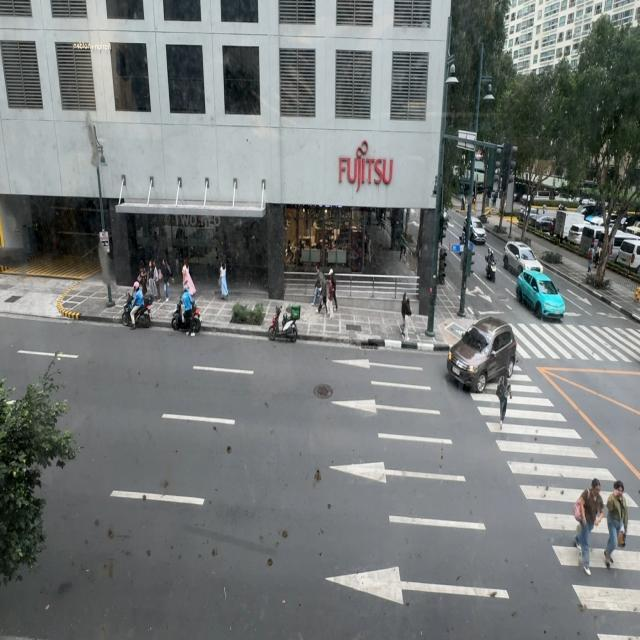waiting: (401, 292, 412, 340)
